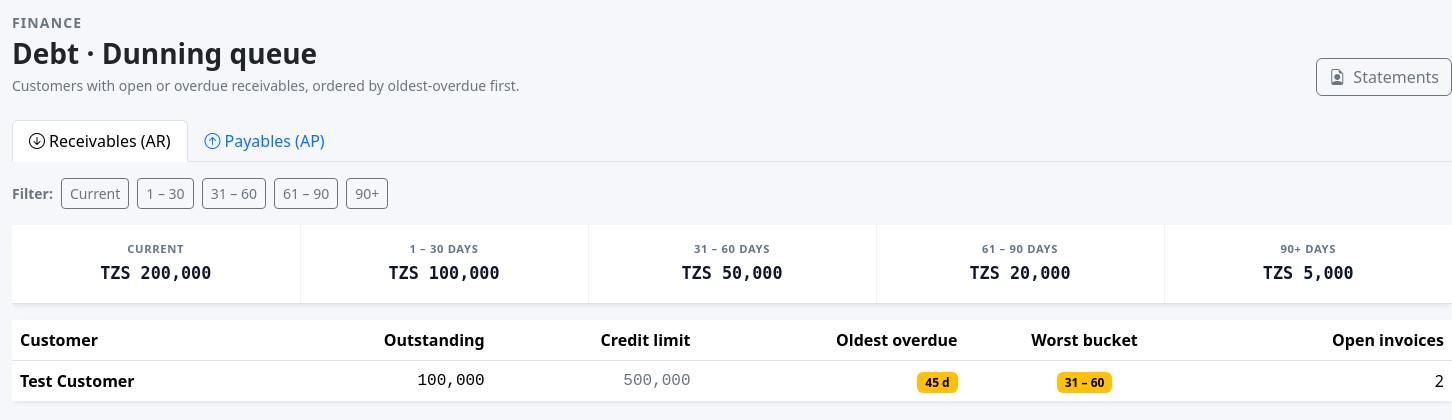
Test: DebtComponent — Slice G.1 AR/AP tab toggle › Switching to AP tab › renders AP dunning table after switching
Click the tab with id "tab-ap".
click(265, 141)  # box [188, 120, 342, 162]
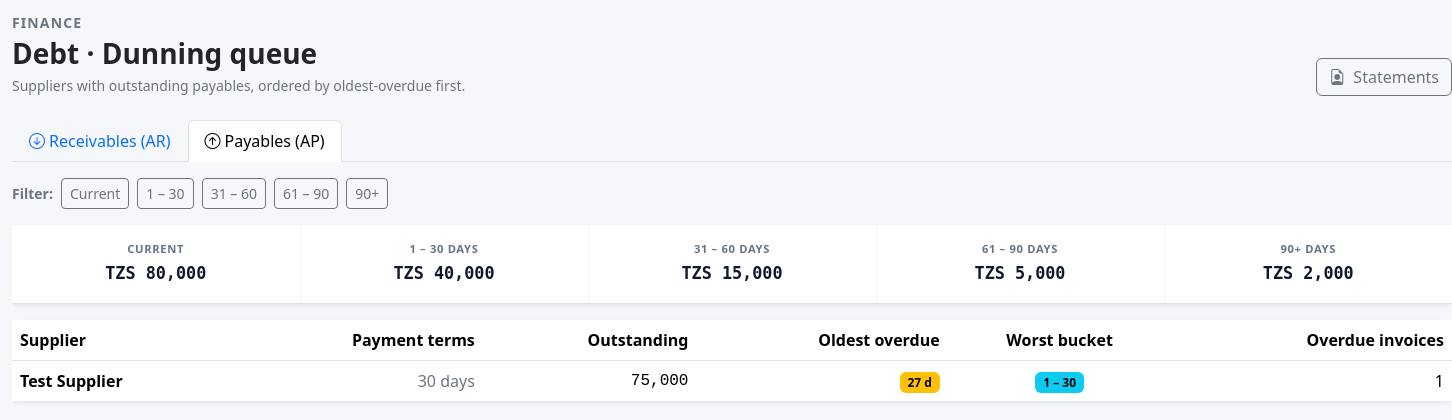
Expected: the table with test id "debt-ap-dunning-table" is shown, [12, 320, 1451, 401]
Expected: the table with test id "debt-dunning-table" is gone
